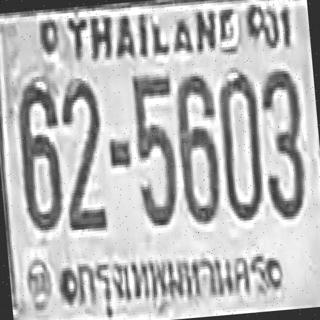N00: (215, 68, 264, 219)
N02: (56, 77, 108, 230)
N03: (256, 66, 308, 220)
N05: (129, 70, 180, 224)
N06: (14, 80, 65, 230), (172, 72, 222, 223)
P04: (71, 234, 273, 316)
